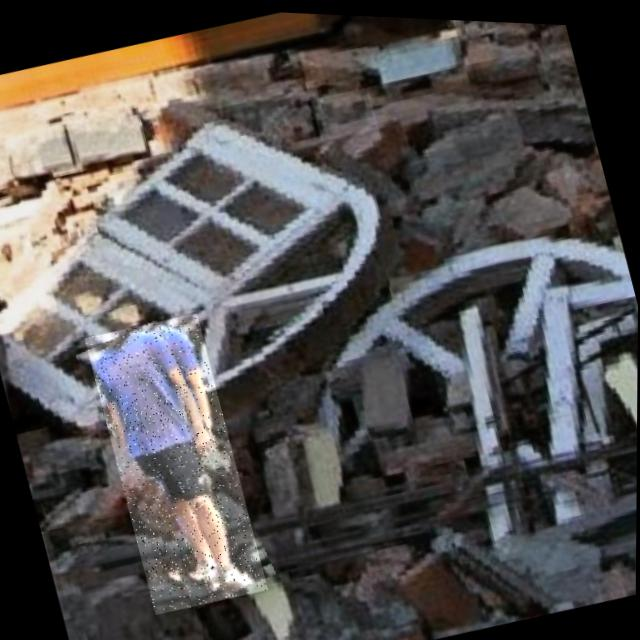Person in Rubble: (83, 307, 270, 616)
